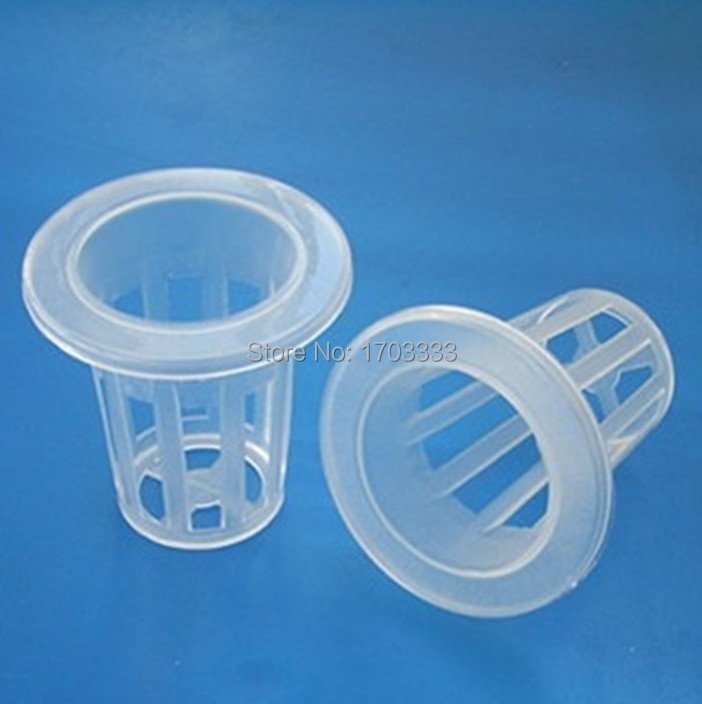basket: (320, 261, 681, 630), (19, 167, 356, 555)
